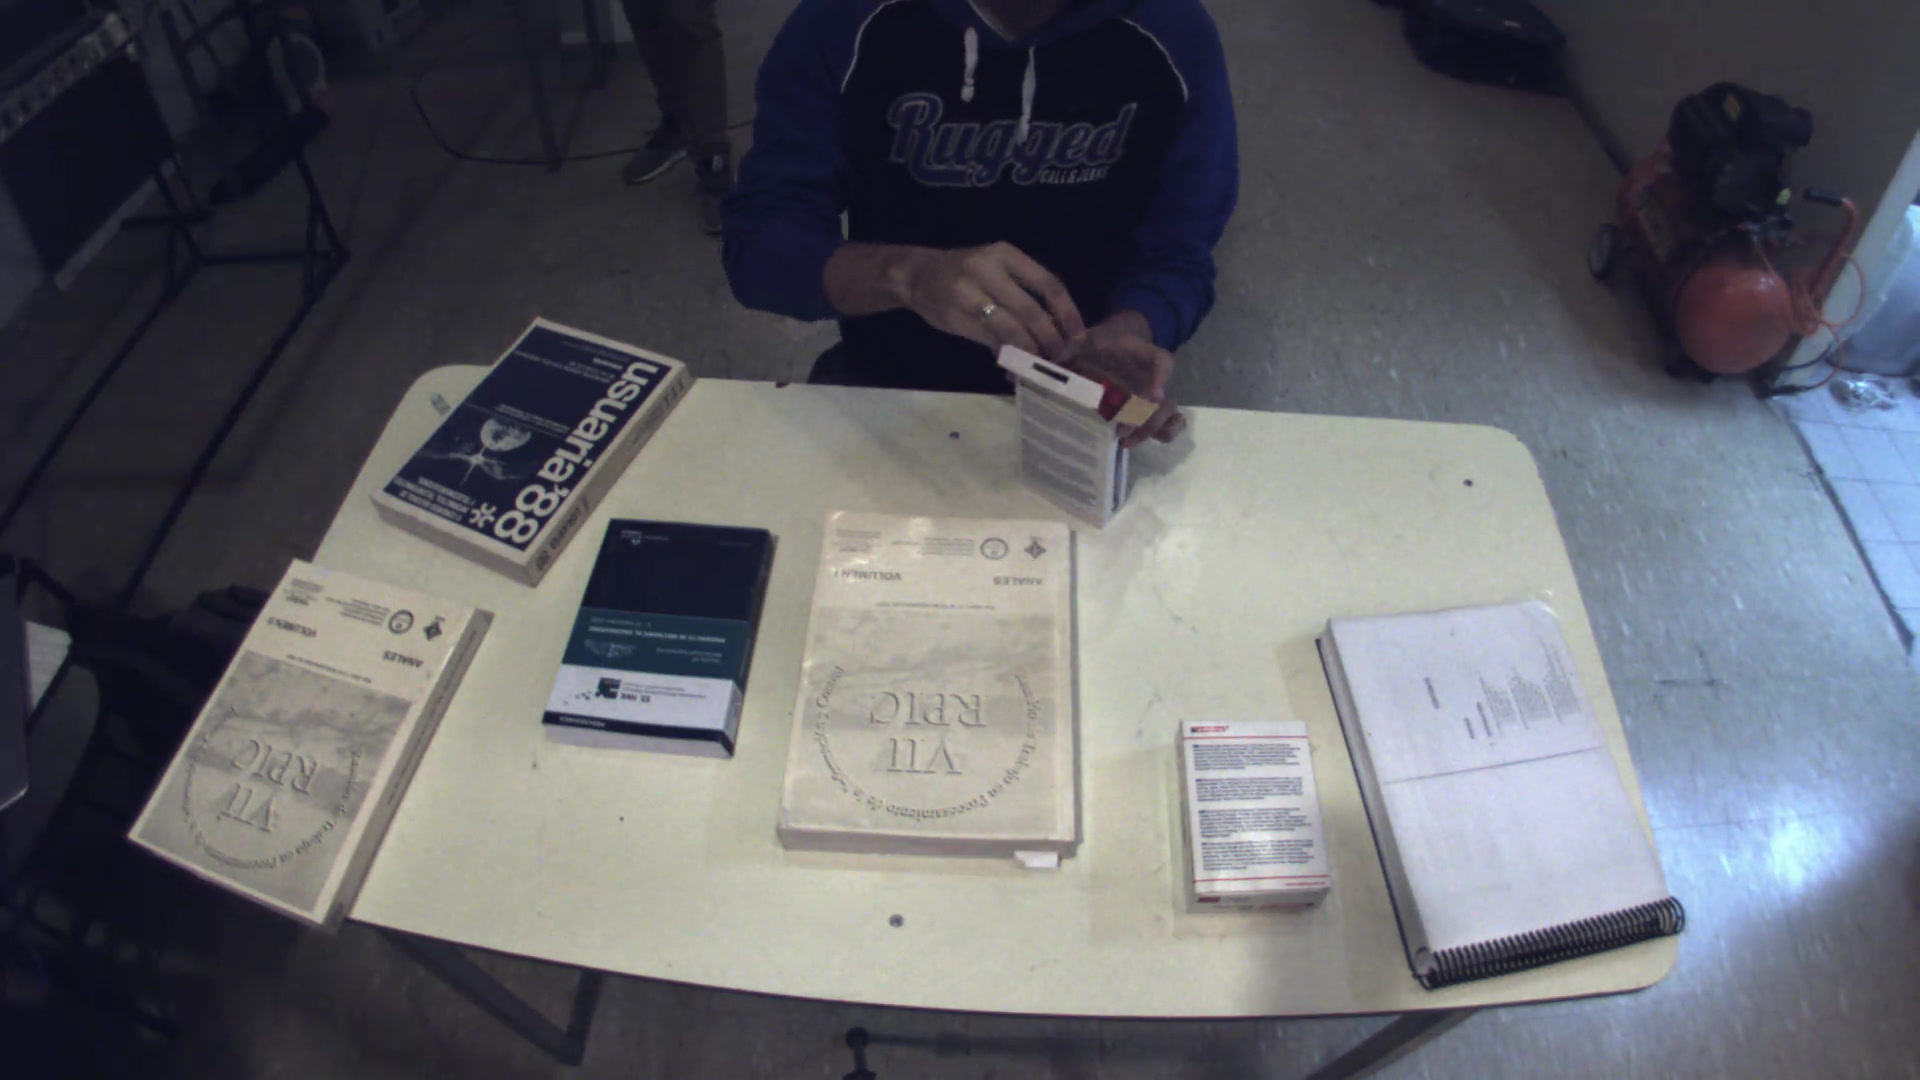hand: (880, 216, 1095, 363), (1036, 302, 1193, 446)
